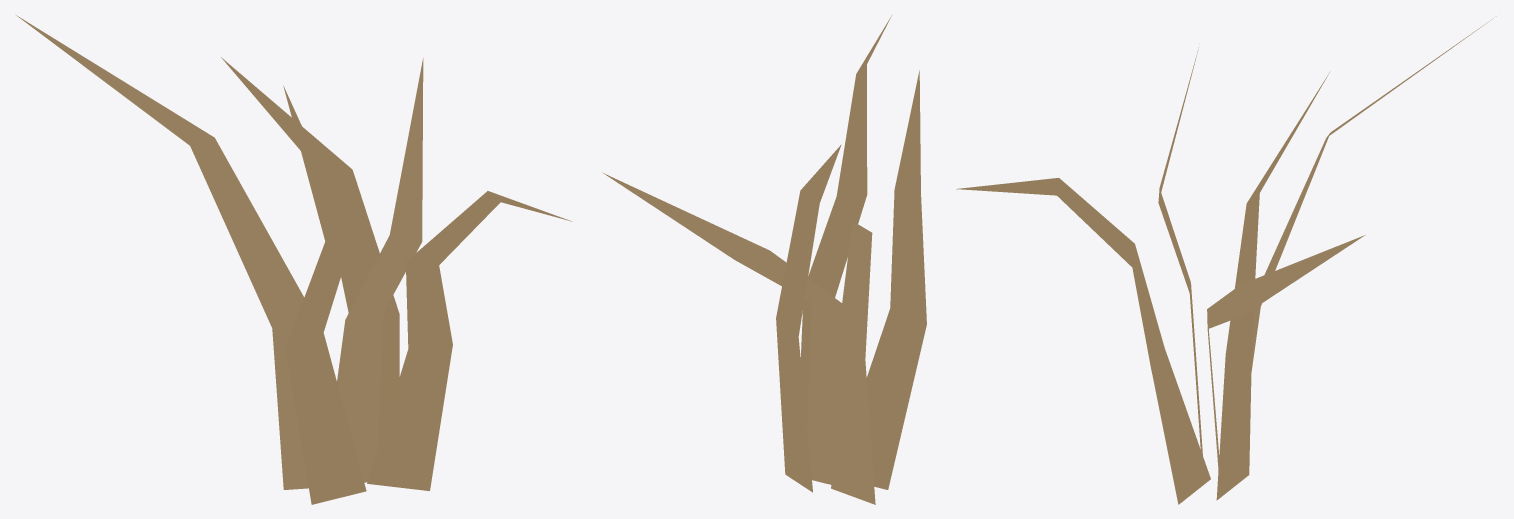
Rendered from Grass_e_TwoS_01.fbx.
3 views of the same model, side by side, from view 1: azimuth 30°, elevation 25°; view 2: azimuth 150°, elevation 25°; view 3: azimuth 270°, elevation 25° (orthographic). The views are drawn at different scales.
Visible parts, largest first — view 1: Grass_e_TwoS_01; view 2: Grass_e_TwoS_01; view 3: Grass_e_TwoS_01.
Boxes of the visible parts, bbox=[...] form: Grass_e_TwoS_01: bbox=[15, 14, 571, 504]; Grass_e_TwoS_01: bbox=[602, 15, 926, 504]; Grass_e_TwoS_01: bbox=[956, 16, 1496, 504].
Bounding box in the file's own units: 0.417 × 0.5097 × 0.6278.
